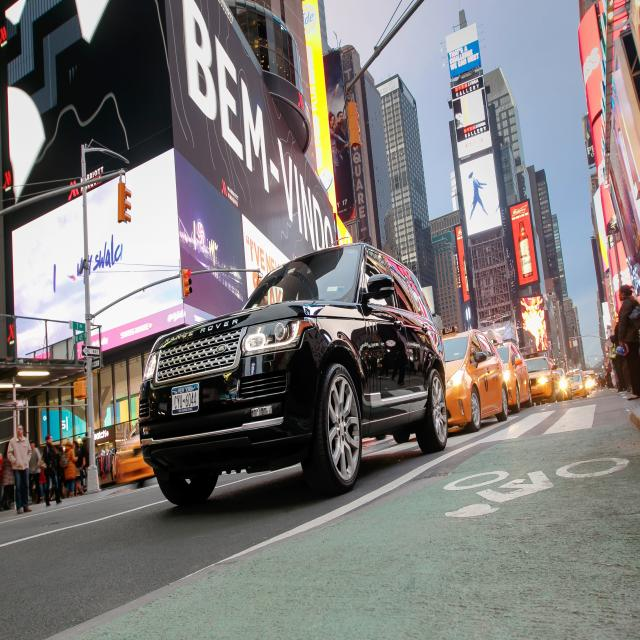body: (579, 278, 639, 405), (347, 315, 416, 397), (0, 441, 87, 499), (613, 284, 640, 402), (5, 424, 33, 516), (38, 434, 62, 506), (328, 110, 350, 188), (464, 169, 494, 222), (59, 440, 79, 498), (1, 441, 15, 511), (28, 440, 42, 506), (73, 440, 88, 496), (334, 110, 348, 166), (72, 440, 84, 497), (54, 445, 65, 500), (37, 449, 48, 503), (96, 446, 126, 458), (132, 422, 142, 456), (0, 452, 4, 472)
